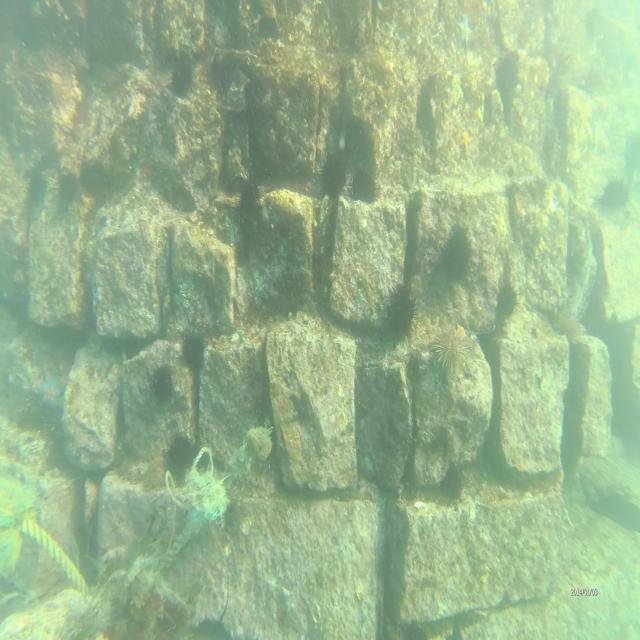echinus: (428, 324, 476, 374), (387, 282, 418, 342), (443, 222, 473, 283), (164, 432, 196, 477), (598, 173, 632, 215), (237, 173, 264, 225), (352, 162, 379, 205), (322, 154, 345, 203), (496, 278, 522, 321), (56, 168, 79, 213), (23, 171, 46, 215), (499, 49, 520, 97), (182, 332, 206, 372), (152, 363, 173, 407), (171, 59, 193, 100)
